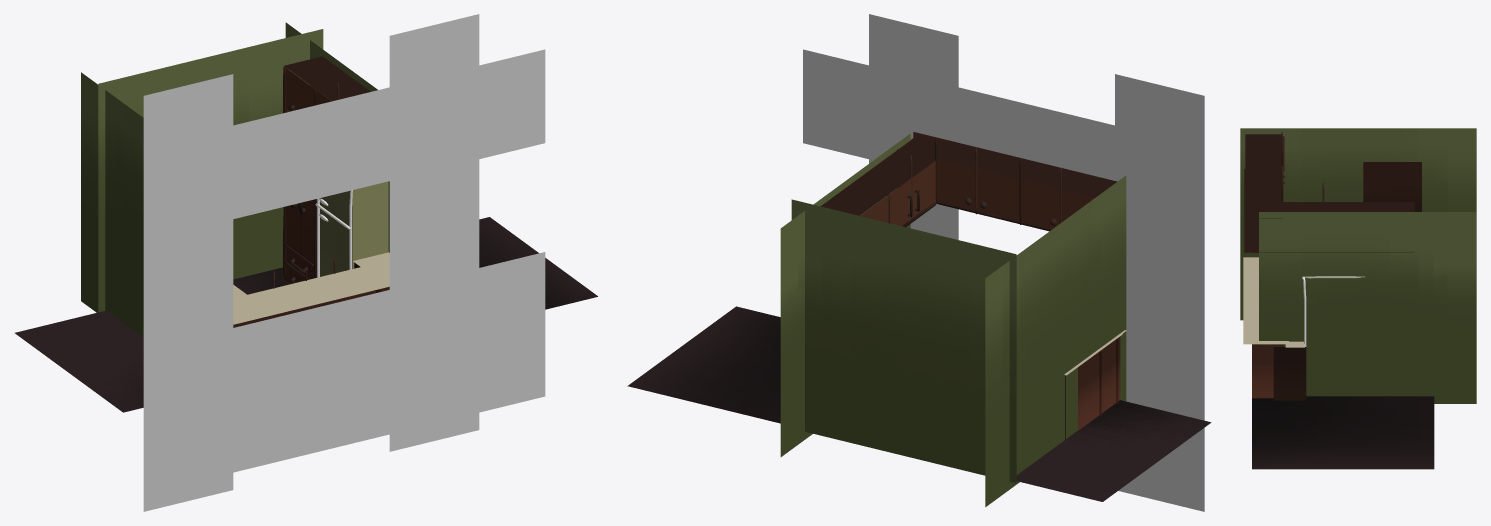
File: 2_Kitchen_Edited.fbx
The picture shows the model from 3 angles, left to right: view 1: azimuth 30°, elevation 25°; view 2: azimuth 150°, elevation 25°; view 3: azimuth 270°, elevation 25°; orthographic projection. The views are drawn at different scales.
Parts seen in each view (by area): view 1: Frame.001, Wall.001, Floor.001, Kitchendesk, Refridge.001, Linedeskk, Refriidgelinre; view 2: Wall.001, Frame.001, Floor.001, Kitchendesk, Linedeskk; view 3: Wall.001, Floor.001, Kitchendesk, Door.001, Refriidgelinre.
Part boxes in pixels (box(x1,y1,x2,y2)): Frame.001: box(143, 14, 545, 511); Wall.001: box(81, 22, 389, 337); Floor.001: box(15, 217, 597, 412); Kitchendesk: box(233, 56, 389, 327); Refridge.001: box(320, 181, 388, 276); Linedeskk: box(273, 67, 339, 288); Refriidgelinre: box(315, 190, 352, 277); Wall.001: box(780, 133, 1126, 507); Frame.001: box(803, 14, 1204, 511); Floor.001: box(627, 306, 1211, 501); Kitchendesk: box(821, 132, 1126, 440); Linedeskk: box(887, 137, 1061, 231); Wall.001: box(1240, 128, 1476, 403); Floor.001: box(1252, 396, 1434, 469); Kitchendesk: box(1243, 134, 1414, 400); Door.001: box(1363, 162, 1421, 211); Refriidgelinre: box(1302, 276, 1360, 346).
Bounding box in the file's own units: 27.08 × 22.64 × 13.92.
